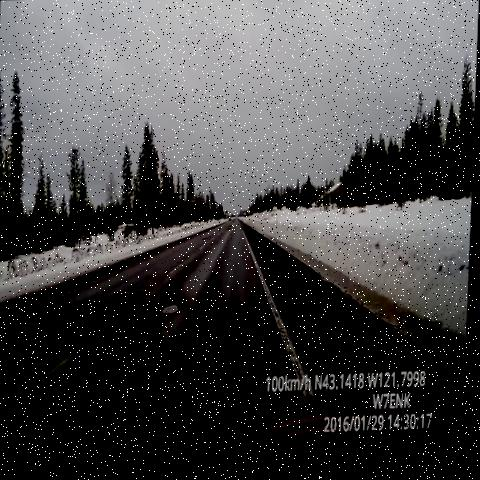pothole: (152, 285, 194, 336), (225, 226, 235, 241)
